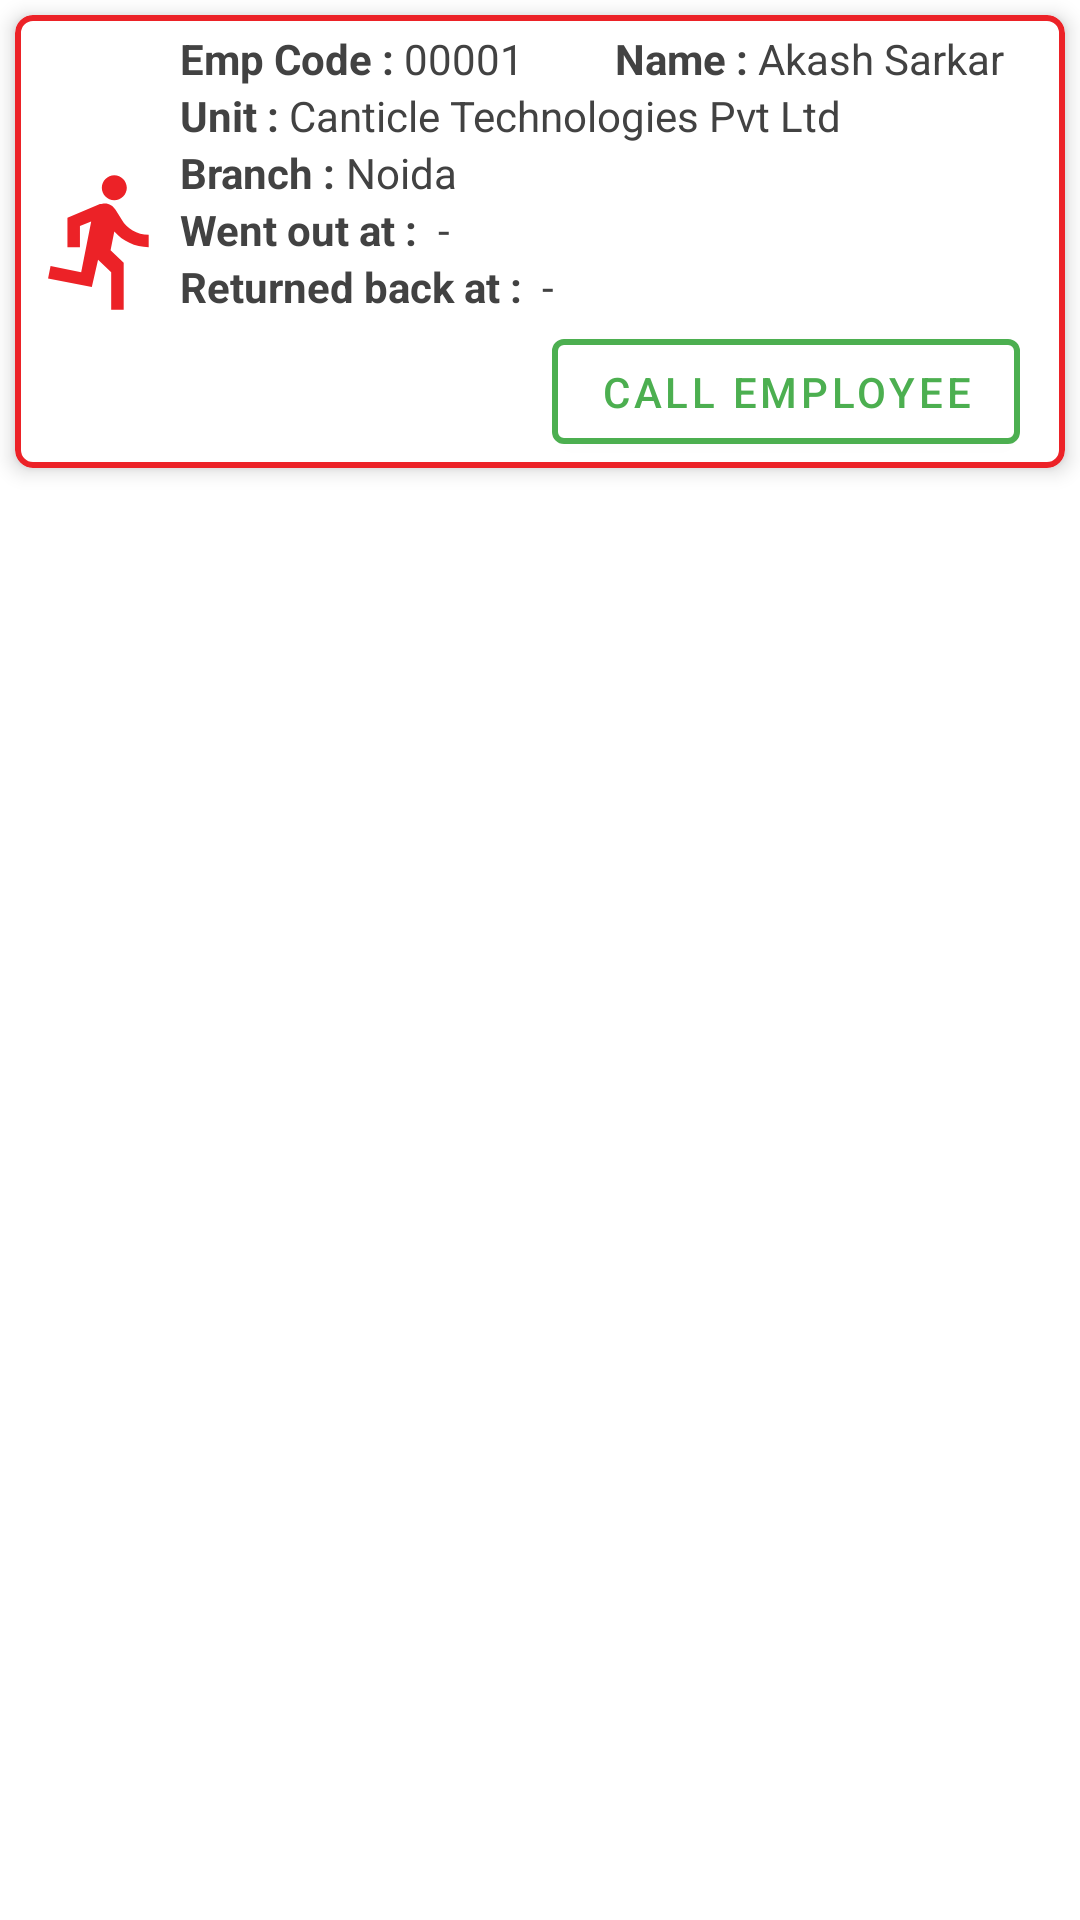

Icon click points for this 1080w x 1920h phone screenshot, format point (x, y):
running: point (98, 242)
